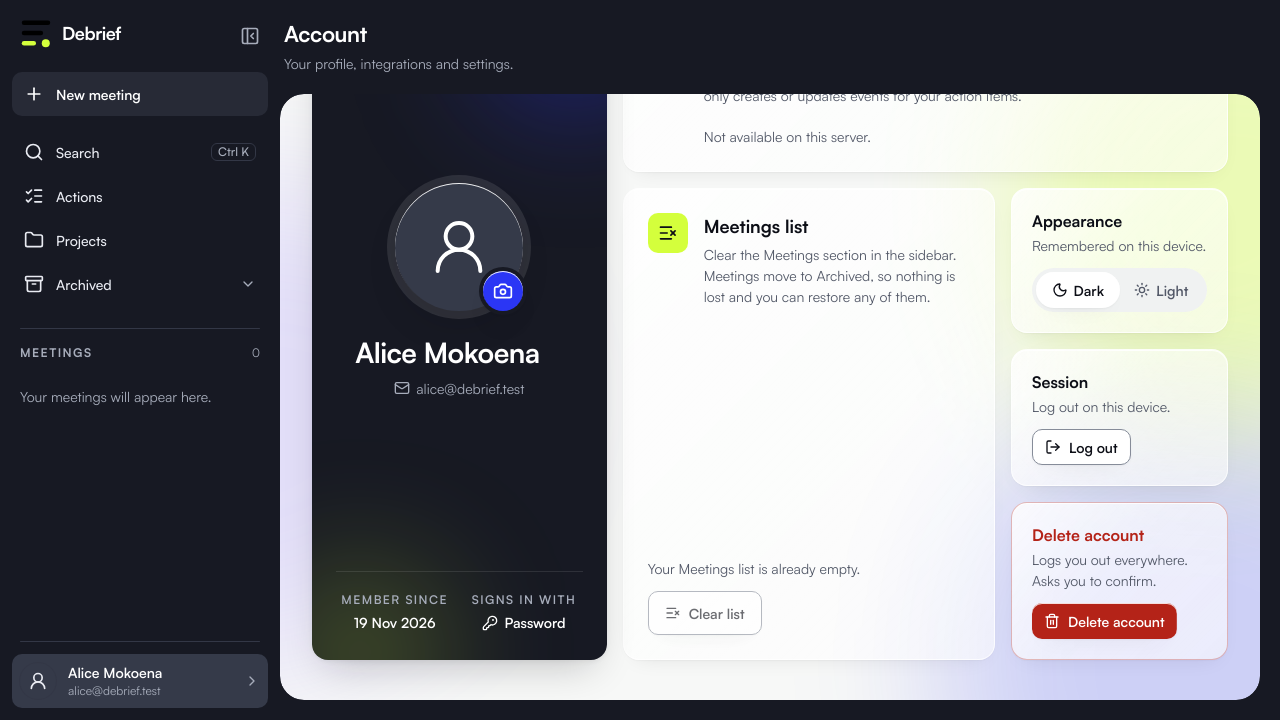
Test: login › does not log you out for a wrong password (also a 401, but not an ended session)
The width and height of the screenshot is (1280, 720).
(page scrolled)
Step 1. Click the button "Delete account" → (1104, 621), box x1=1032 y1=603 x2=1177 y2=639
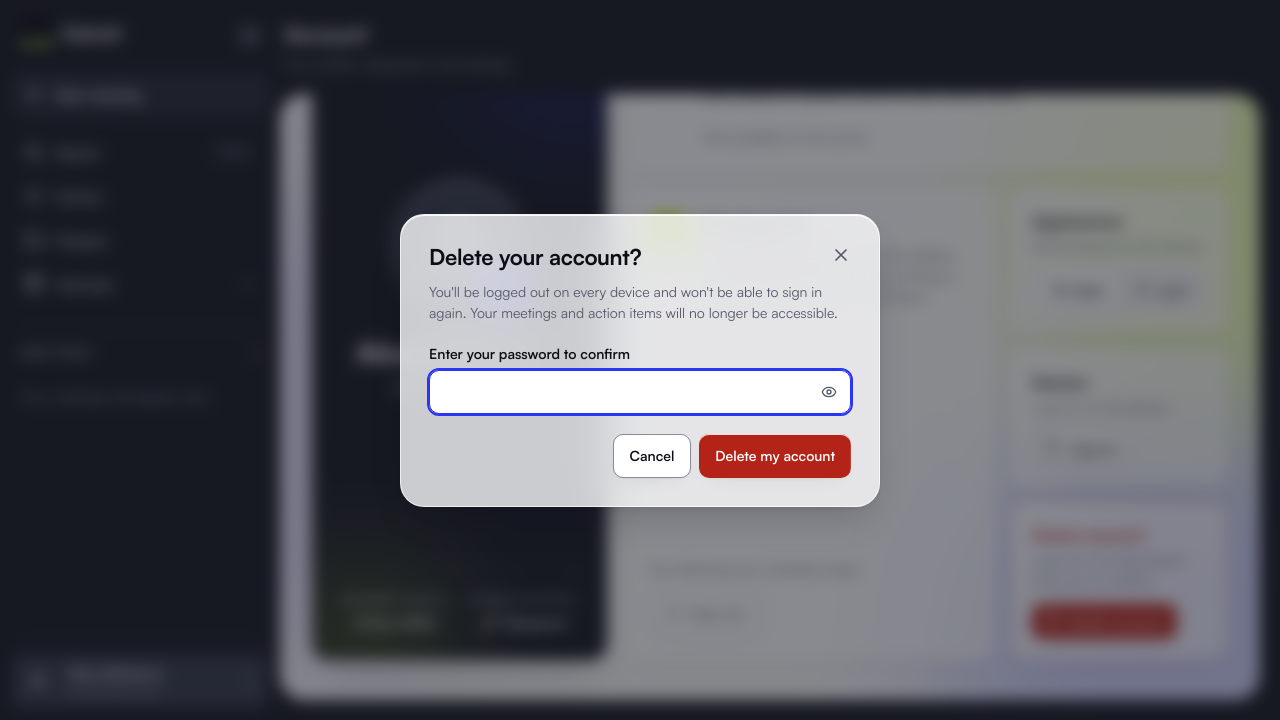
Step 2. Type "wrong-password-123" into the password field labelled "Enter your password to confirm" → (640, 392), box x1=429 y1=370 x2=851 y2=414
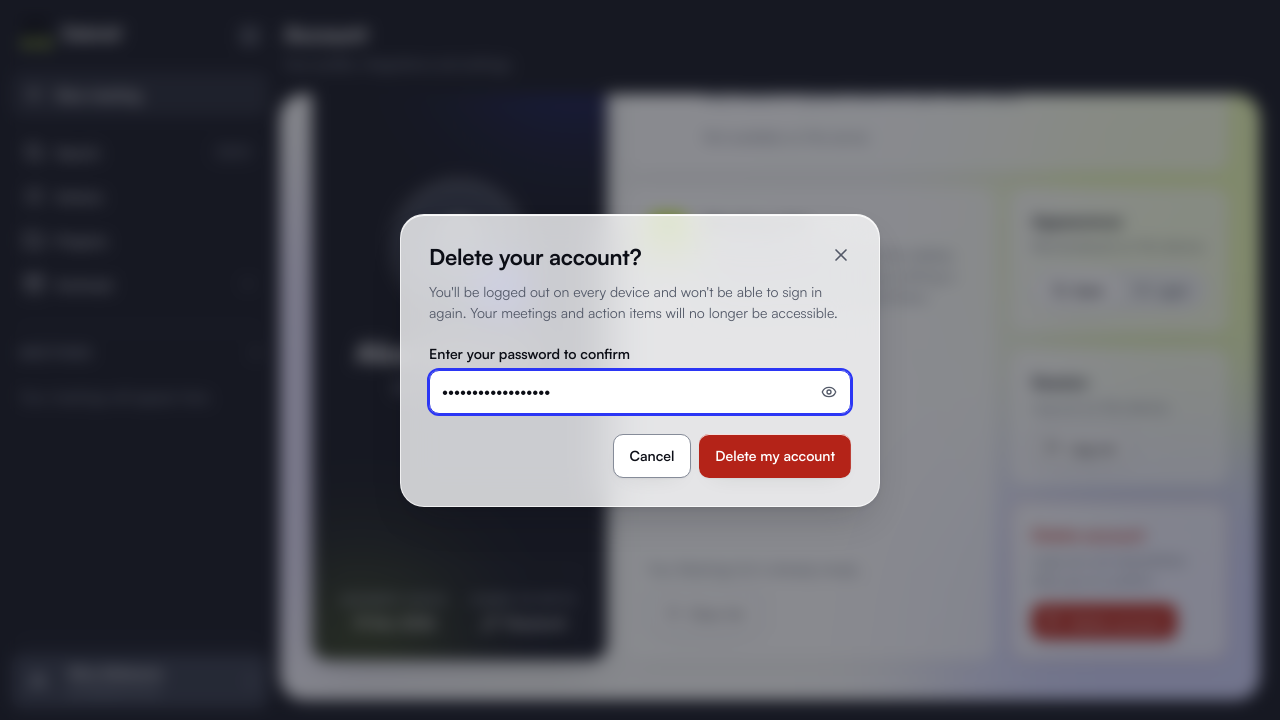
Step 3. Click the button "Delete my account" → (775, 456), box x1=699 y1=434 x2=851 y2=478
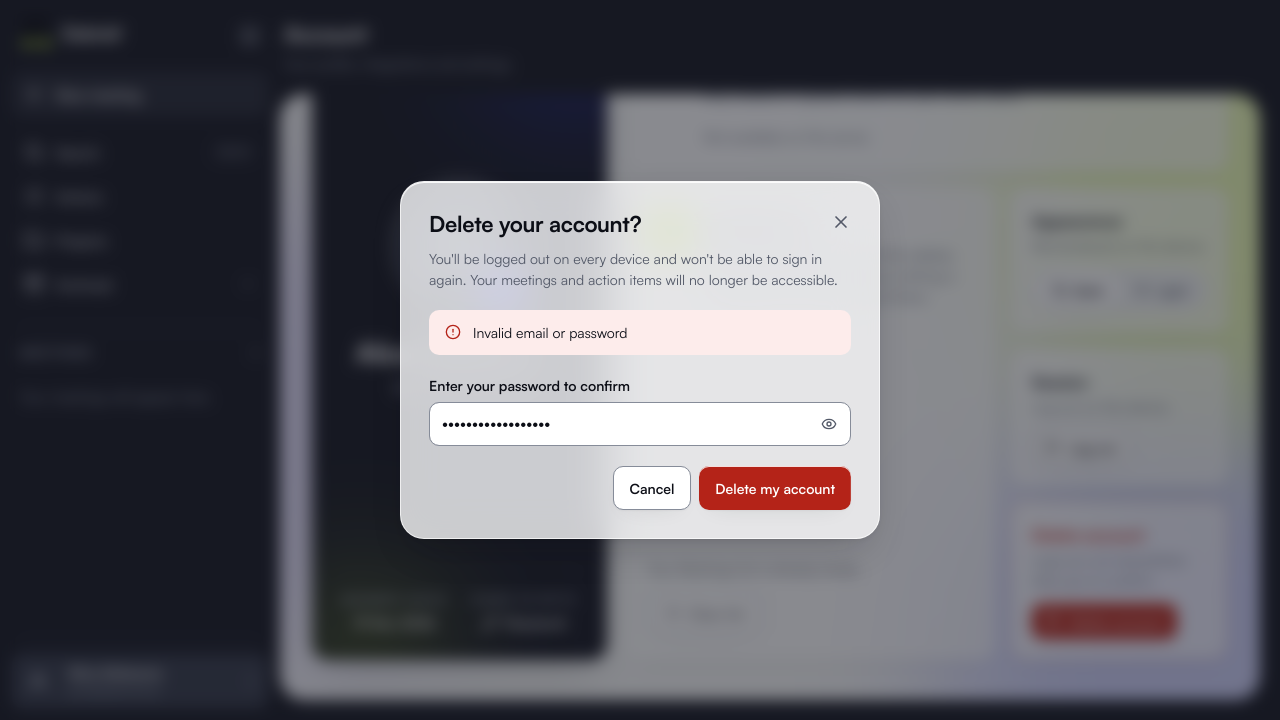
Now the text "Invalid email or password" is shown, box x1=473 y1=324 x2=627 y2=341
